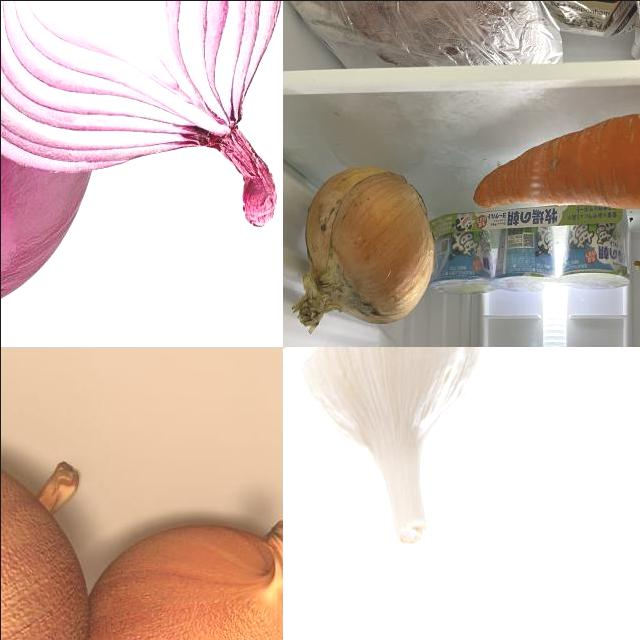carrot: (476, 109, 640, 226)
garlic: (297, 347, 484, 548)
onion: (1, 1, 279, 227), (1, 1, 92, 322), (67, 520, 283, 640), (292, 175, 432, 333), (1, 440, 87, 640)
